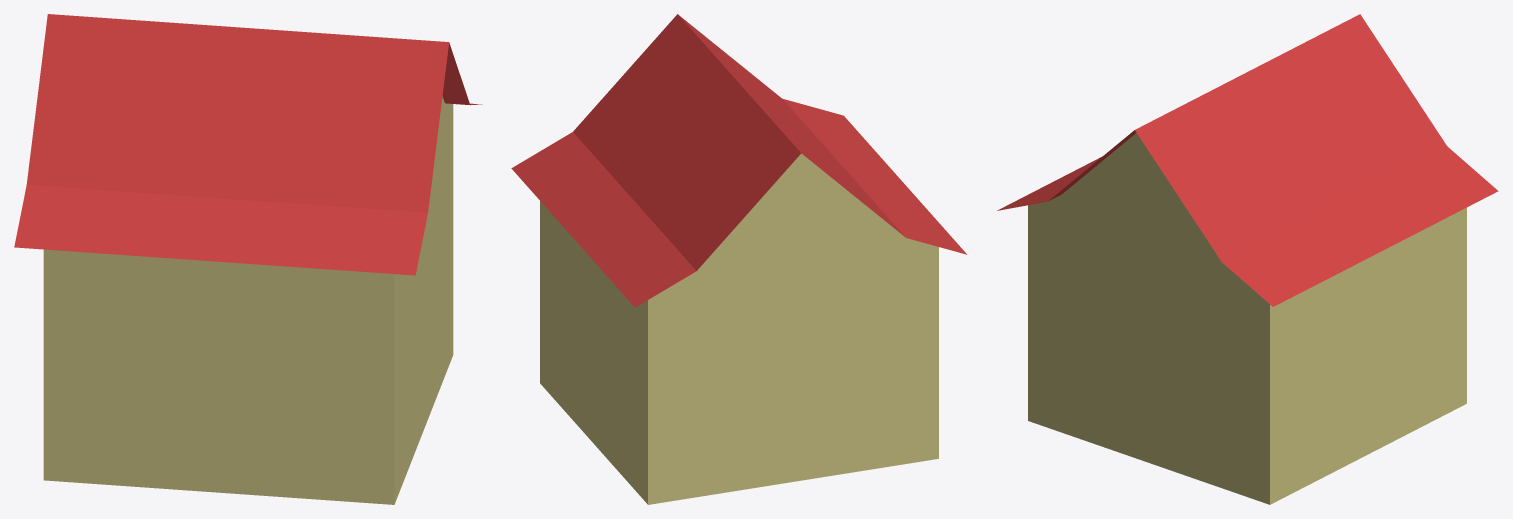
3 renders of one model, left to right at view 1: azimuth 30°, elevation 25°; view 2: azimuth 150°, elevation 25°; view 3: azimuth 270°, elevation 25°, orthographic. The views are drawn at different scales.
Bounding box in the file's own units: 16.76 × 16.78 × 12.54.
